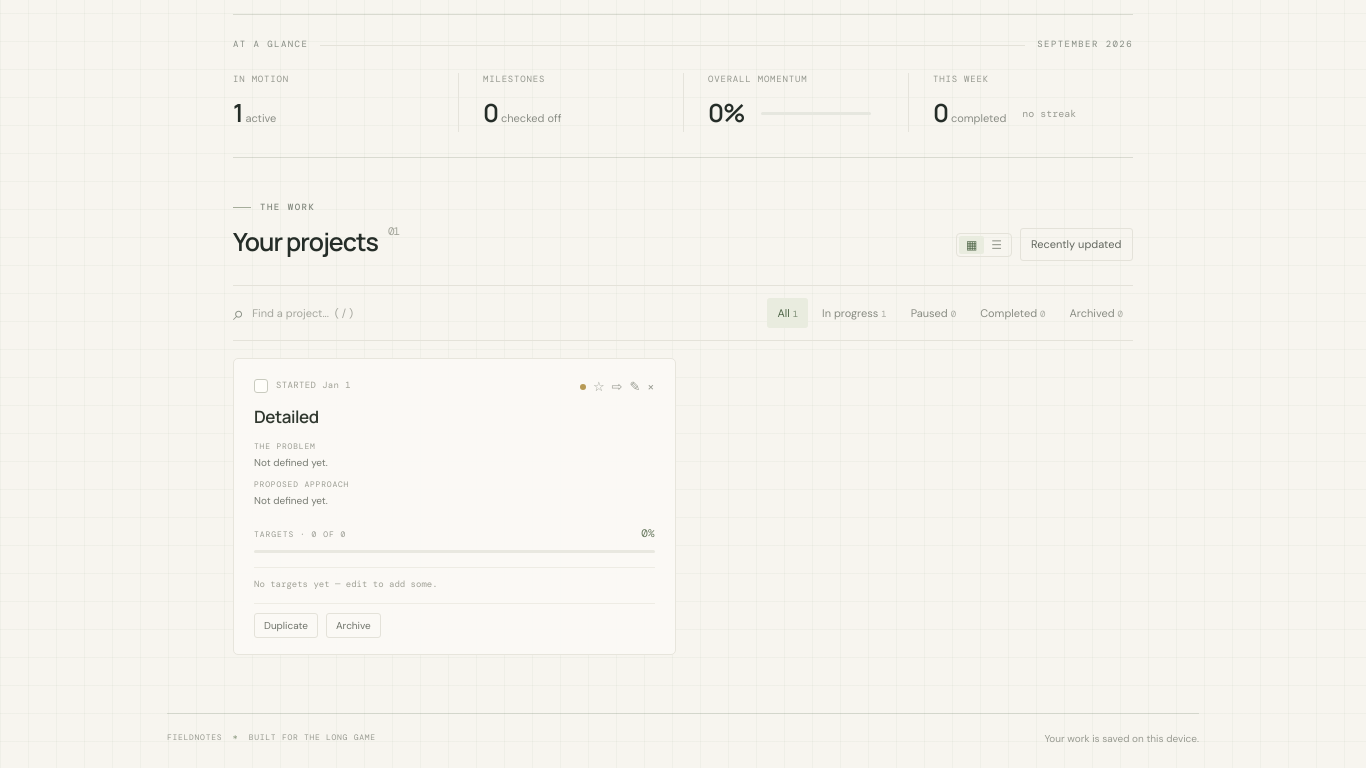
Test: App: drawer › opens details and shows the notes rendered
This screenshot has width=1366, height=768.
(page scrolled)
Click the button named "open detailed": (617, 387) [612,378,622,396]
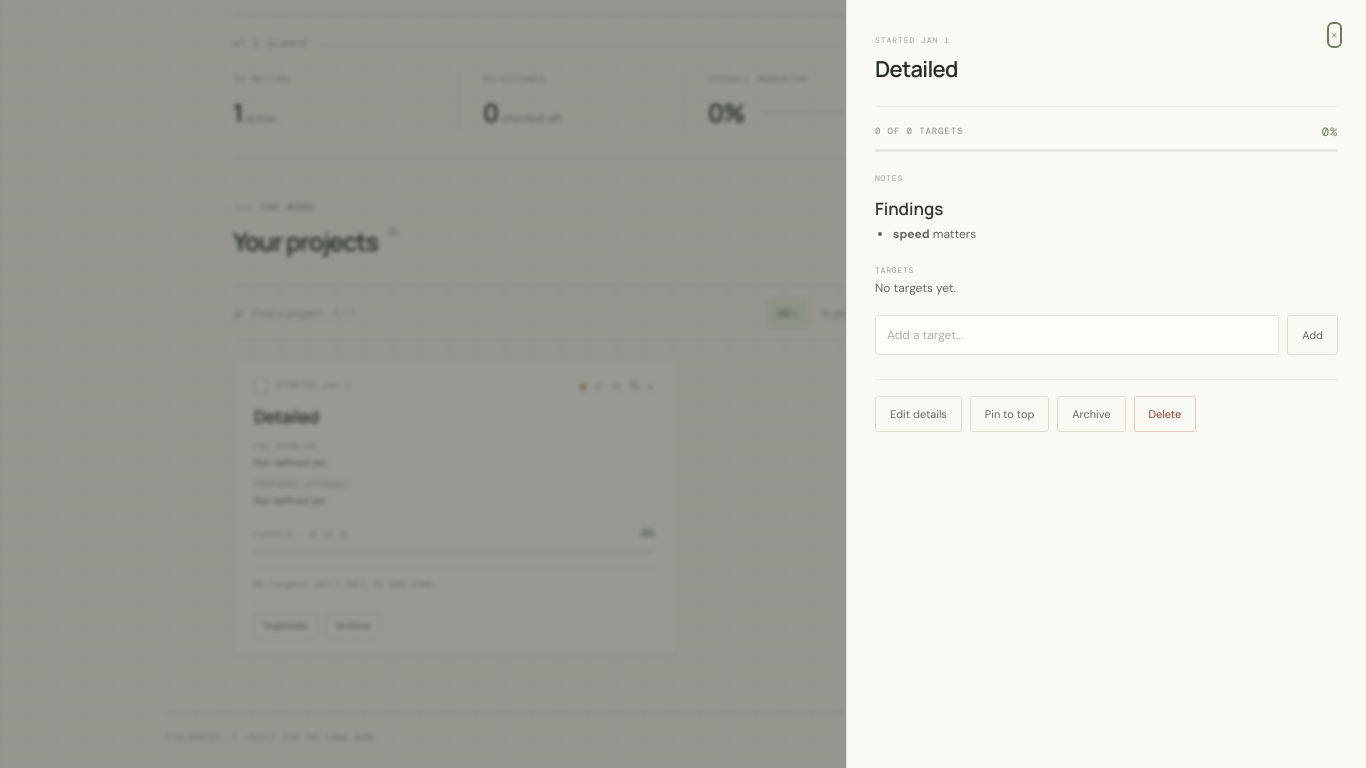
Expected: the heading "Findings" is shown, [875,196,943,220]
